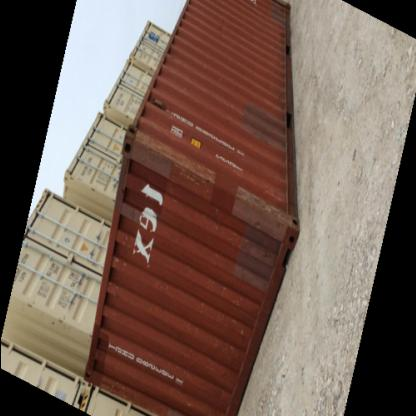Damage: (234, 192, 284, 228), (131, 130, 177, 165), (172, 160, 214, 198), (201, 280, 225, 310)
